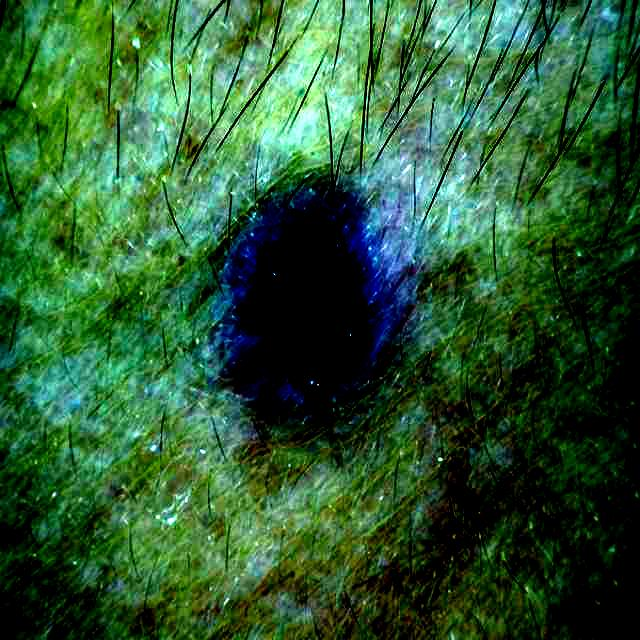BCC: (227, 176, 413, 442)
